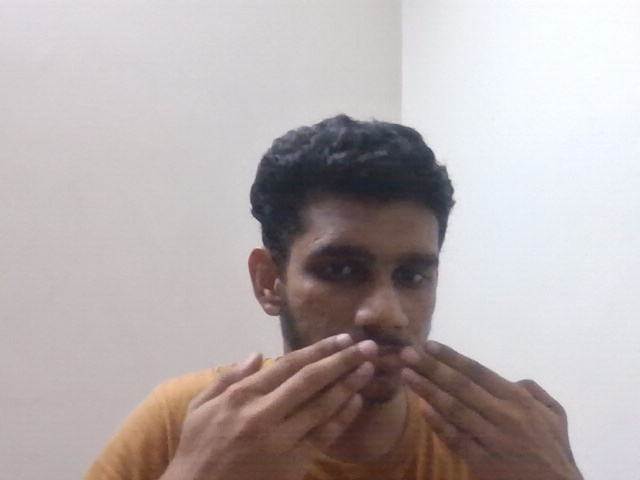thanks: (162, 327, 609, 475)
